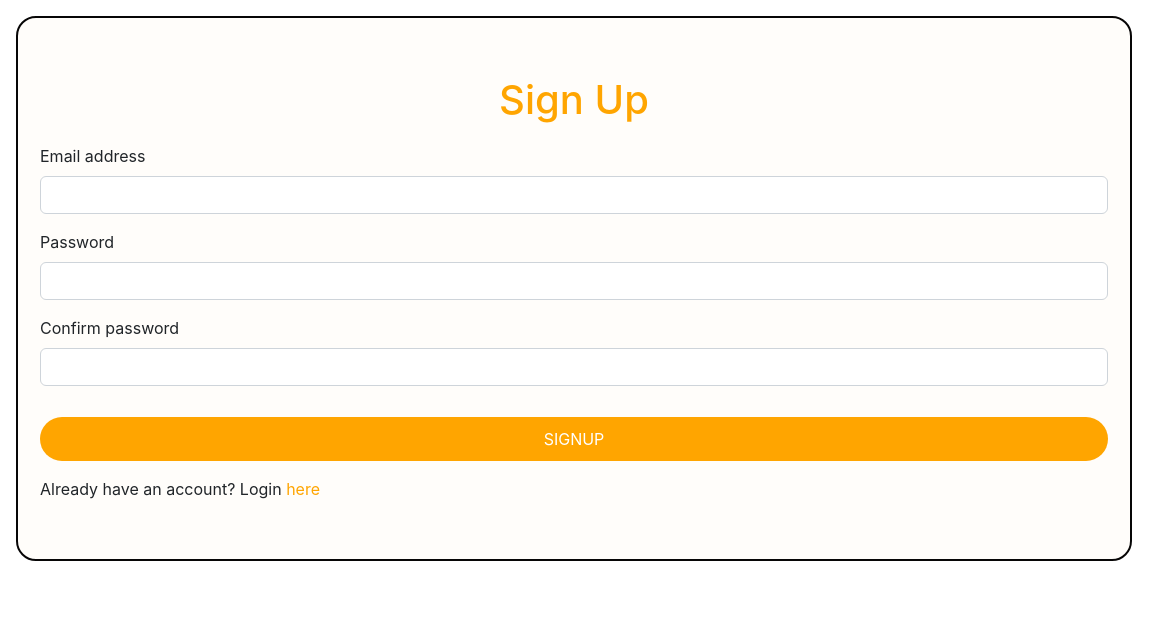
Test case: App › Error handling › should show password error if password is less than 5 characters
Expected: the text "The password you entered should contain 5 or more characters" is not shown
Type "nael@gmail.com" into the field labelled "Email address" at {"x": 574, "y": 195}, box [40,176,1108,214]
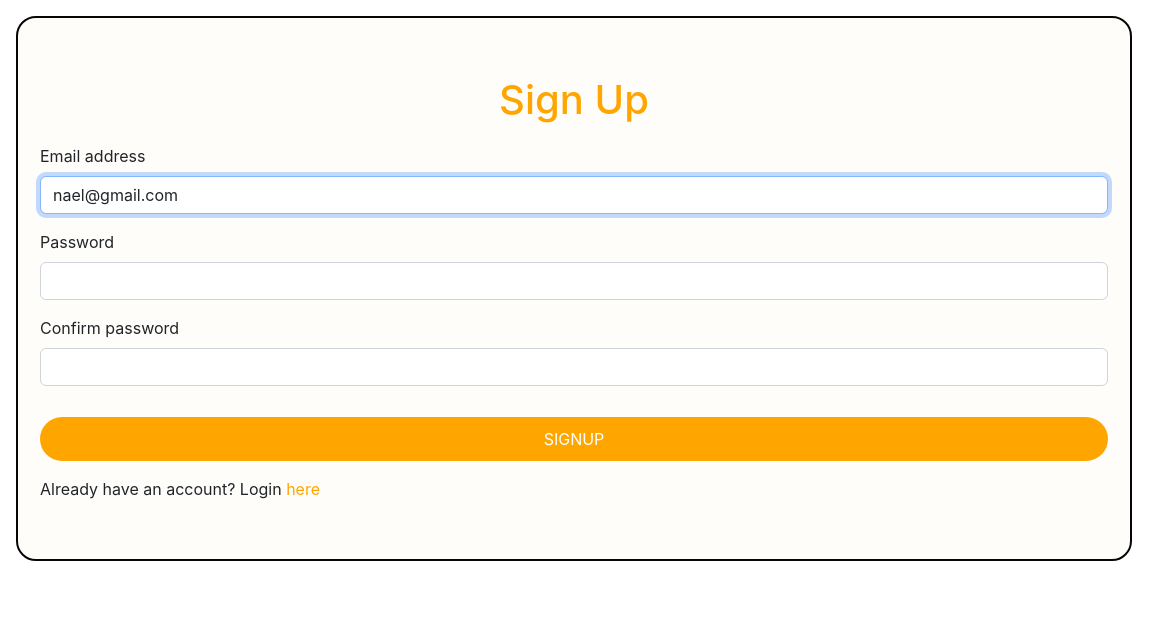
Type "1234" into the password field labelled "Password" at {"x": 574, "y": 281}, box [40,262,1108,300]
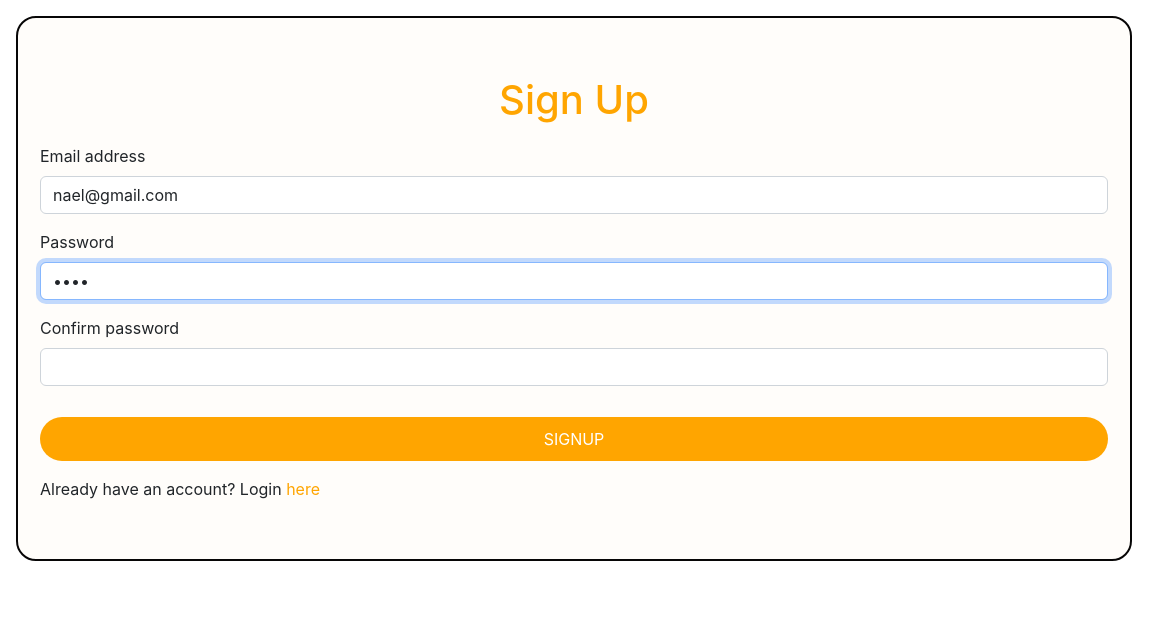
Click the button "Signup" at {"x": 574, "y": 439}, box [40,417,1108,461]
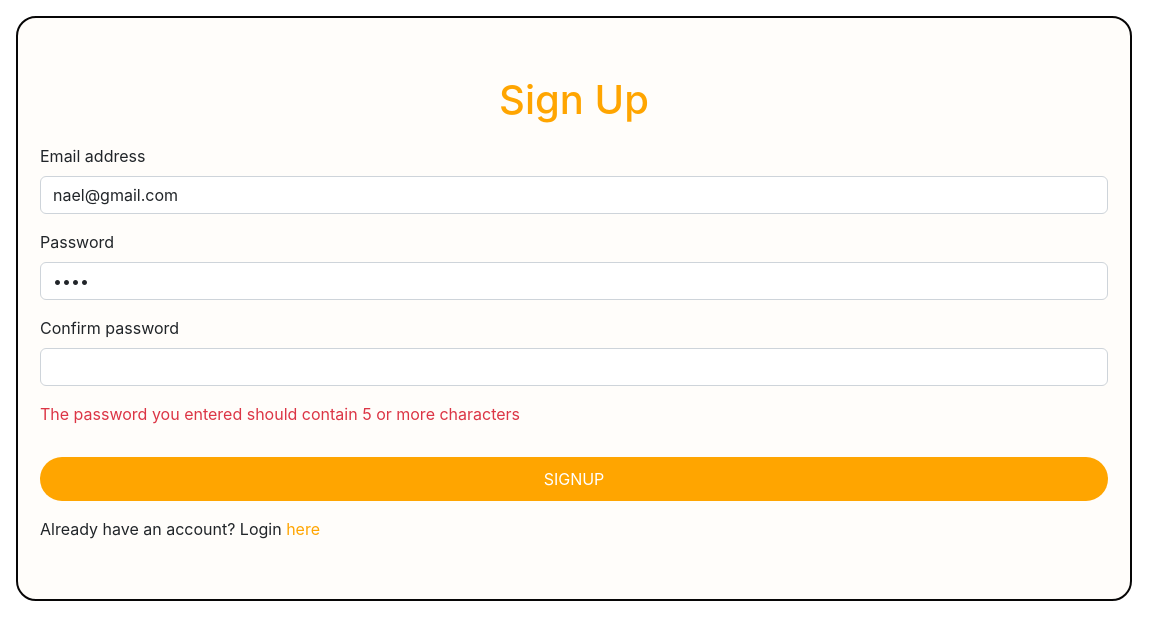
Now the text "The password you entered should contain 5 or more characters" is shown, box [40,404,520,424]
